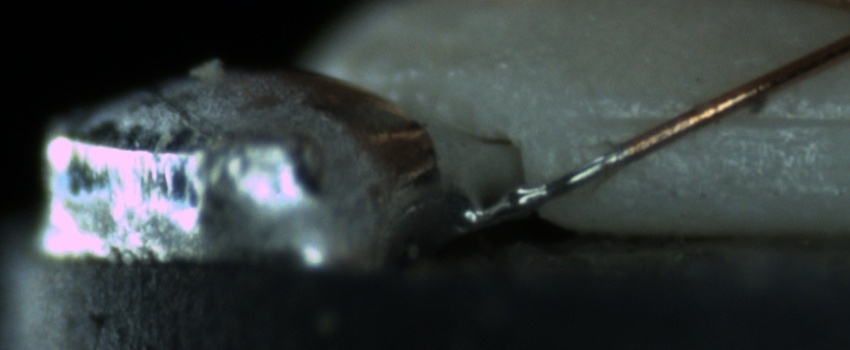DL: (567, 87, 847, 152)
TB: (496, 181, 541, 217)
TS: (457, 146, 623, 232)
TTCW: (450, 124, 651, 227)
